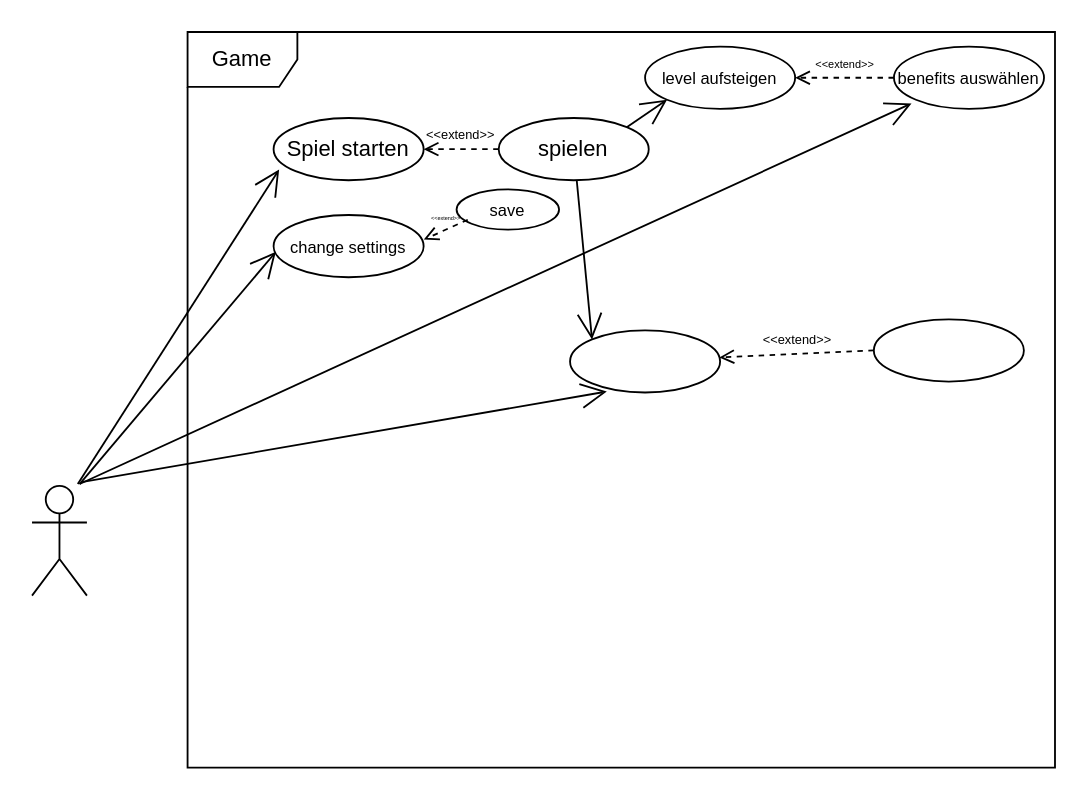
The diagram is 1087 pixels wide and 800 high, and some of its shapes have lost their labels. Here are the shapes that lost their labels. From the top down, the box of each, then its label:
(568, 328, 720, 393): runde beenden
(872, 318, 1024, 382): score ausgeben
(30, 484, 87, 596): Actor
